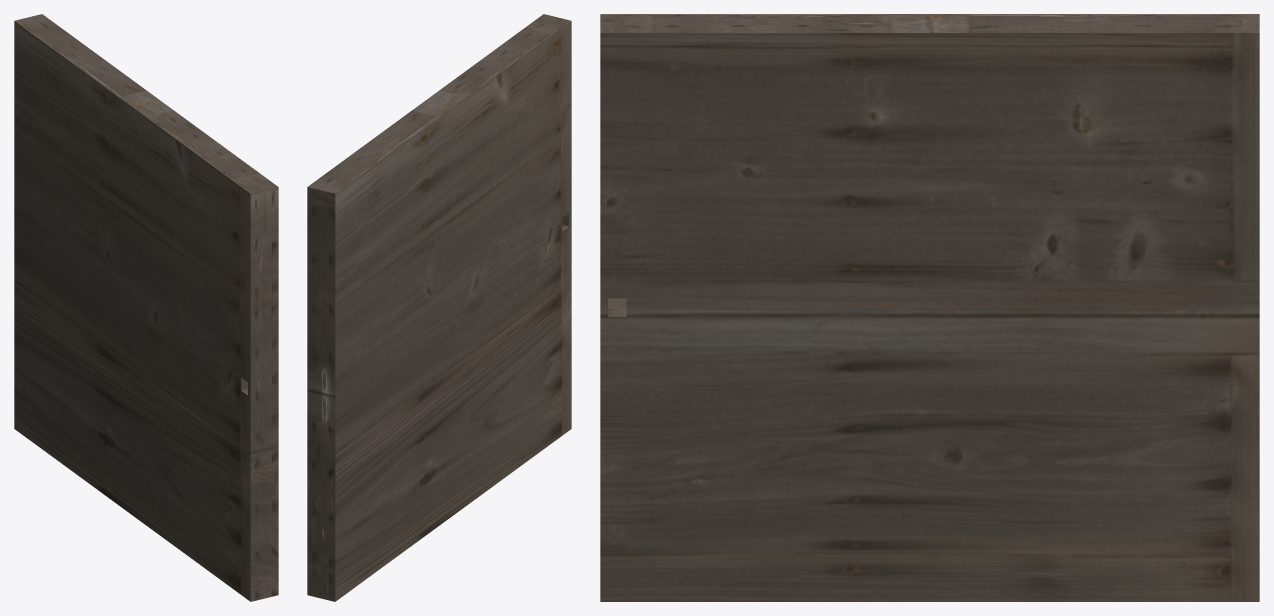
Rendered from Door.fbx.
3 views of the same model, side by side, from view 1: azimuth 30°, elevation 25°; view 2: azimuth 150°, elevation 25°; view 3: azimuth 270°, elevation 25° (orthographic). The views are drawn at different scales.
Parts seen in each view (by area): view 1: Door; view 2: Door; view 3: Door.
Part boxes in pixels (<box>): Door: <box>14,14,278,601</box>; Door: <box>307,14,571,601</box>; Door: <box>600,14,1259,601</box>.
Size of the model in its own units: 124 by 1735 by 1821.
1 material, 1 textured.
